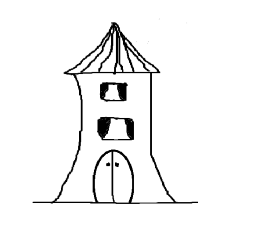door: (86, 148, 138, 206)
open_window: (95, 114, 137, 144), (95, 79, 132, 105)
roof: (62, 21, 168, 79)
wall: (53, 74, 177, 204)
